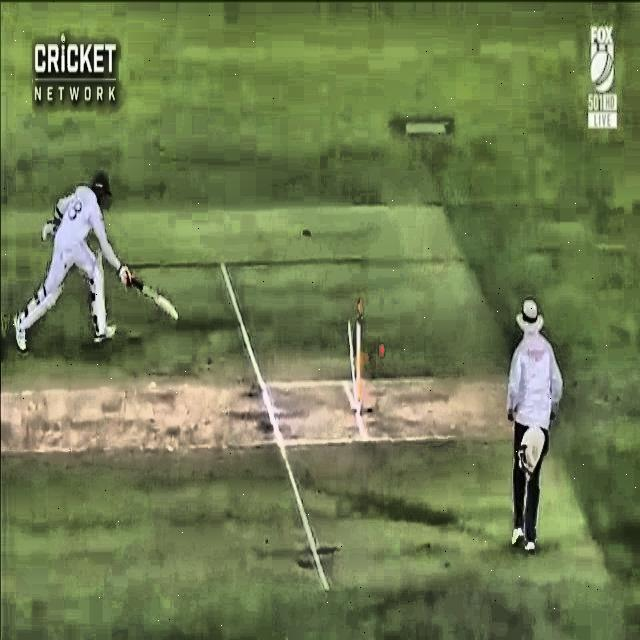Ball: (373, 333, 393, 365)
Bat: (113, 263, 182, 324)
Dis_Wicket: (338, 308, 375, 415)
Pitch_Line: (214, 265, 333, 590)
